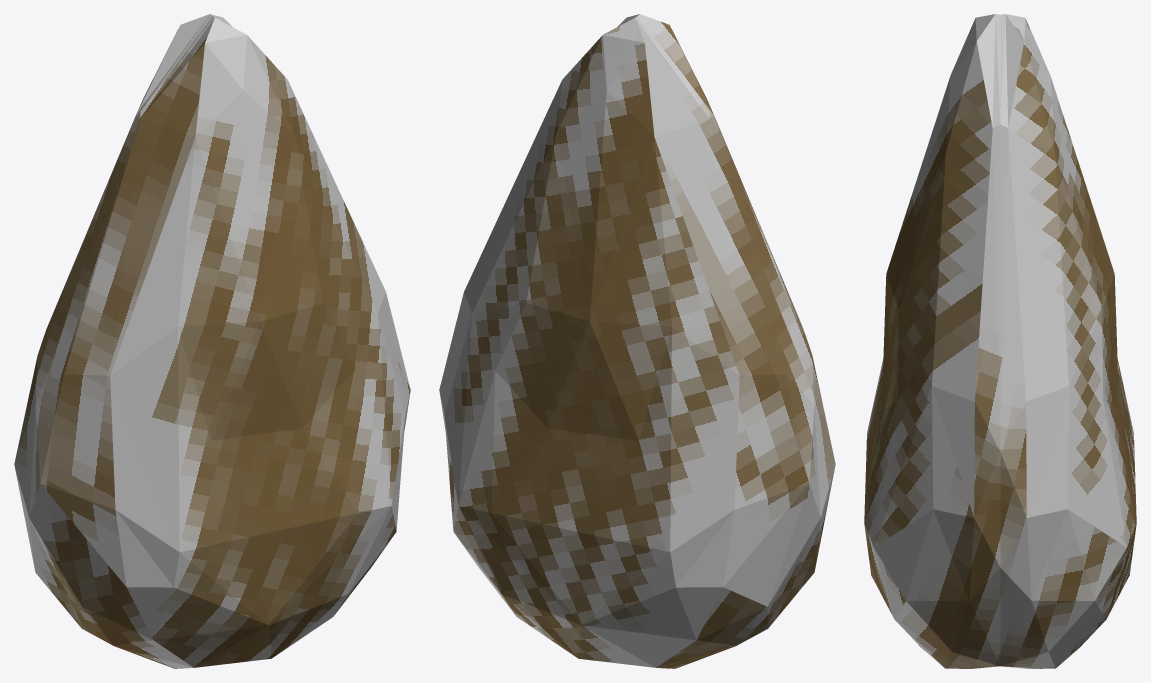
File: seed.fbx
3 renders of one model, left to right at view 1: azimuth 30°, elevation 25°; view 2: azimuth 150°, elevation 25°; view 3: azimuth 270°, elevation 25°, orthographic.
Parts seen in each view (by area): view 1: Sphere; view 2: Sphere; view 3: Sphere.
Part boxes in pixels (<box>): Sphere: <box>14,14,410,668</box>; Sphere: <box>439,14,835,668</box>; Sphere: <box>864,14,1136,668</box>.
Size of the model in its own units: 326 by 545 by 206.
Materials: 1 (1 with a texture image).
